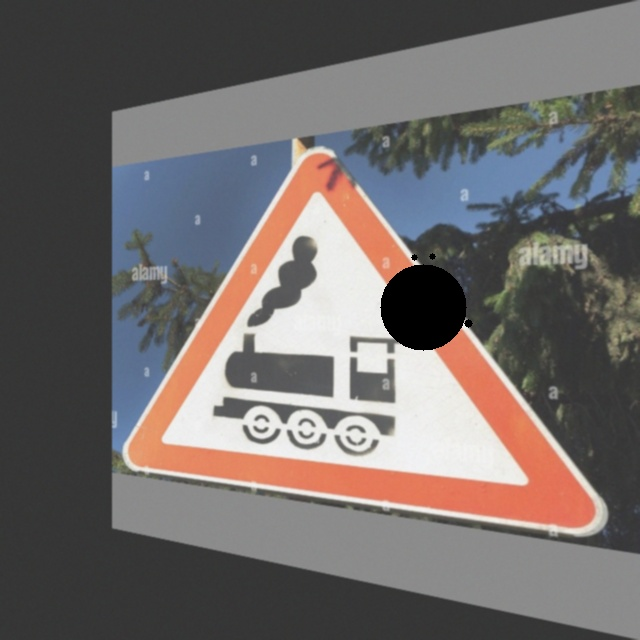Unguarded_Level_Crossing: (151, 141, 532, 520)
